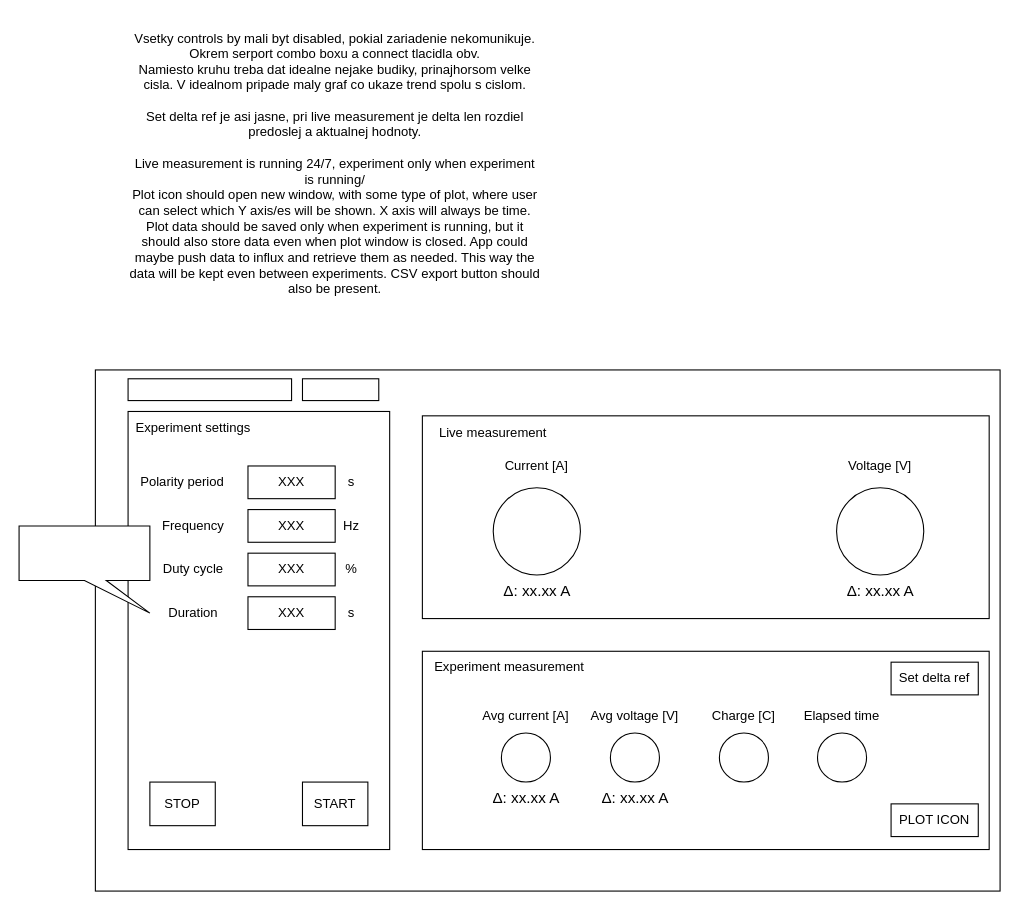
The diagram is 1019 pixels wide and 910 high, and some of its shapes have lost their labels. Here are the shapes that lost their labels. From the top down, the centre of each, then its label:
At (x=209, y=389): "SER PORT COMBOBOX".
At (x=340, y=389): "CONNECT".
At (x=84, y=569): "Duration by mal mat checkbox na infinite".
